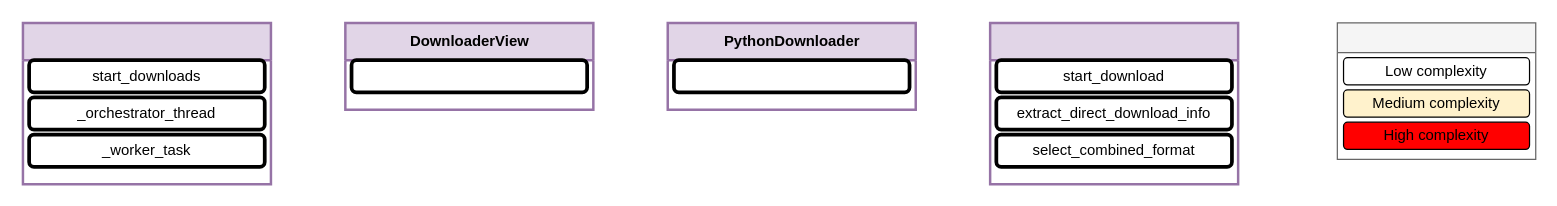
Some shapes in this 1557 by 206 pixel diagram are drawn without their labels. Each missing label, with the box of its shape:
download: (671, 58, 911, 94)
DownloaderController: (21, 21, 272, 185)
Functions: (988, 21, 1239, 185)
Legend: (1336, 22, 1536, 159)
update_progress_safely: (349, 58, 588, 94)
